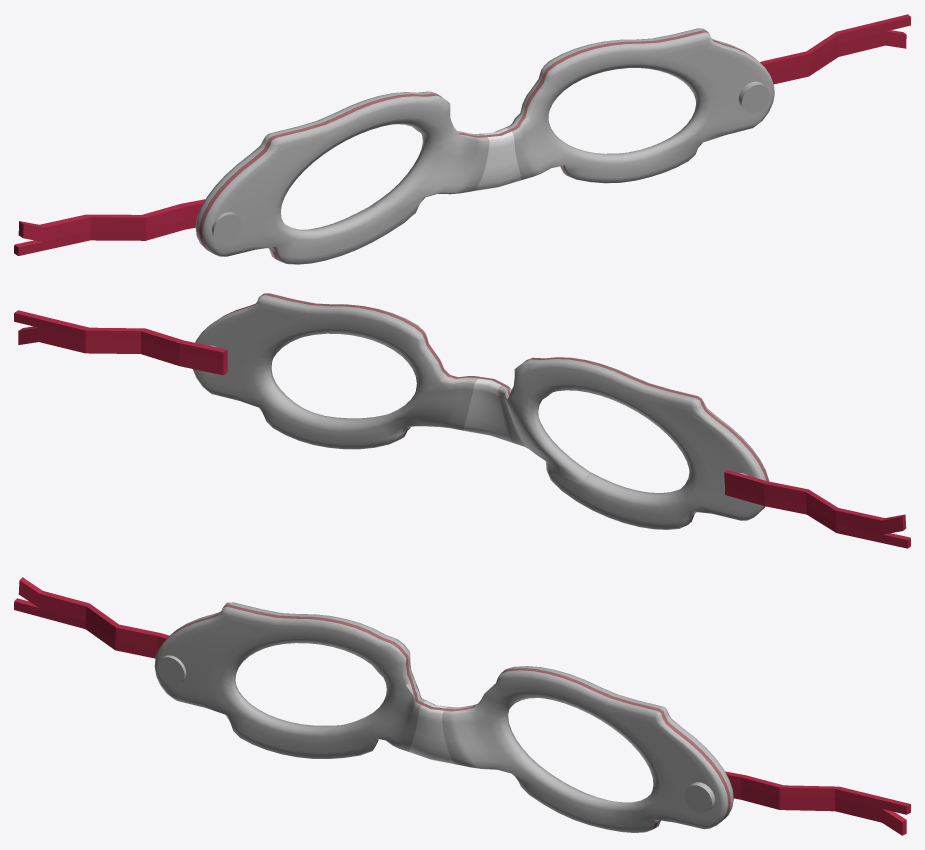
File: Jumping_mask.fbx
The picture shows the model from 3 angles, top to bottom: view 1: azimuth 30°, elevation 25°; view 2: azimuth 150°, elevation 25°; view 3: azimuth 330°, elevation 25°; orthographic projection.
Parts seen in each view (by area): view 1: Jump_mask; view 2: Jump_mask; view 3: Jump_mask.
Boxes of the visible parts, x1,y1,x2,y2 form: Jump_mask: (14,14,910,264); Jump_mask: (14,293,910,548); Jump_mask: (14,577,910,835).
Size of the model in its own units: 64.53 by 10.22 by 5.03.
